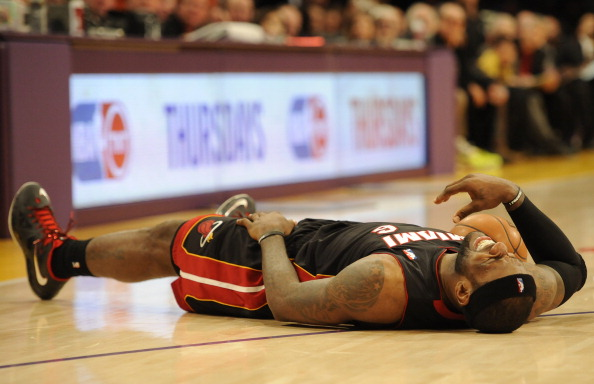10+: (1, 1, 594, 345)
down: (1, 153, 589, 338)
